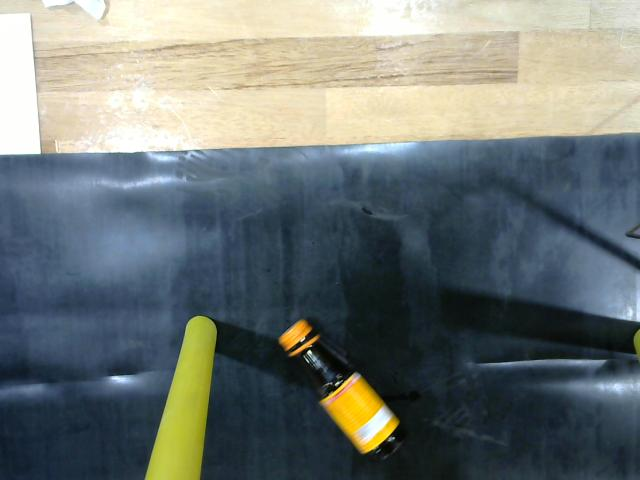glass: (271, 311, 416, 469)
